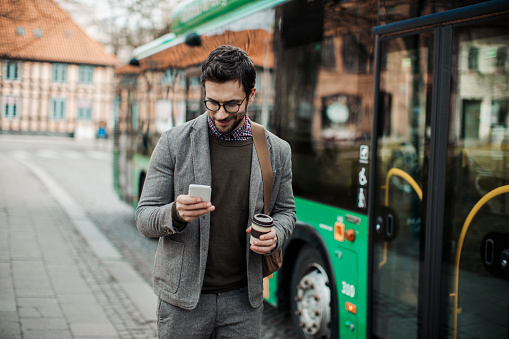em pe: (130, 70, 298, 339)
